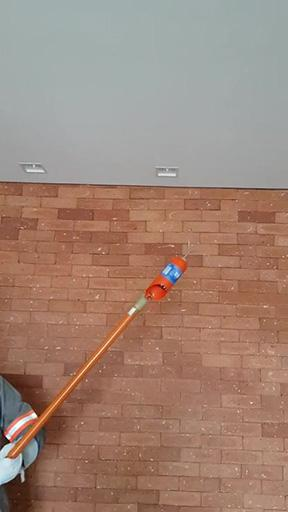Detector_Tensao_Contato: (142, 242, 195, 302)
Vara_Manobra: (1, 298, 146, 472)
